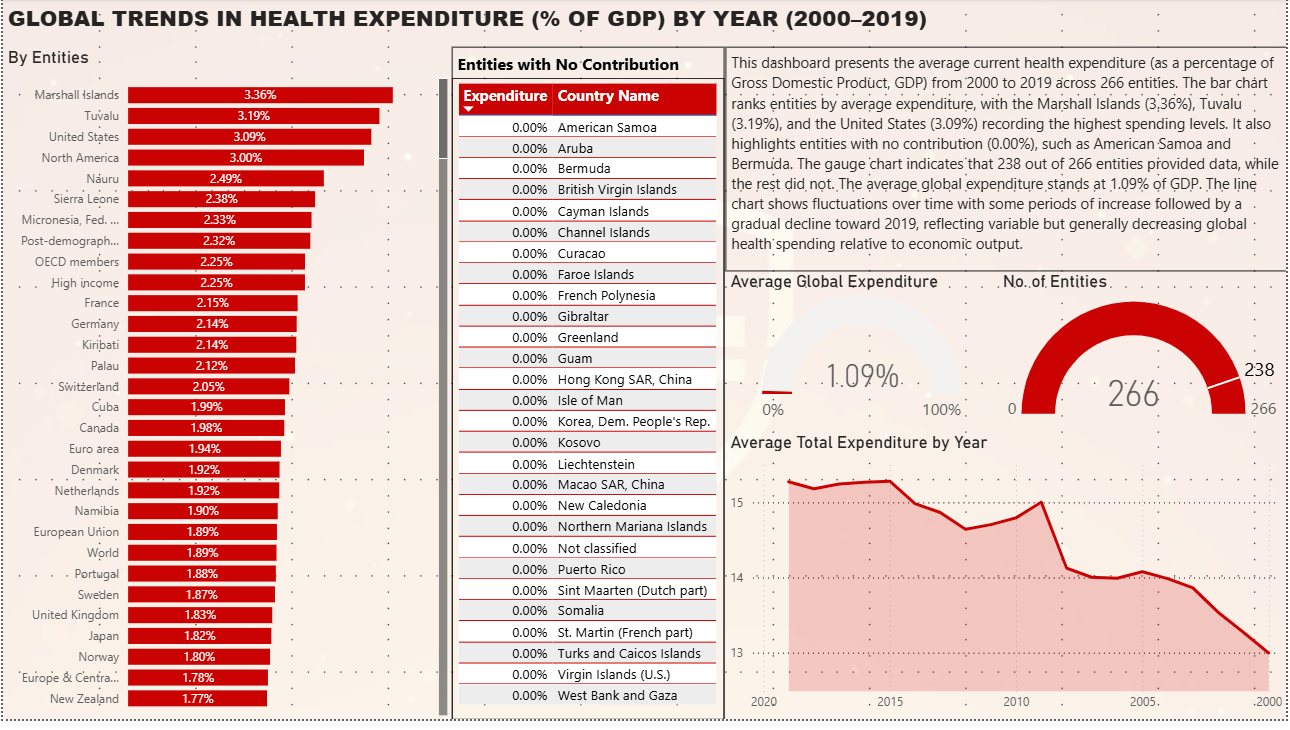

What the dashboard file says about the page in this screenshot:
{"tool":"powerbi","page":{"name":"Expenditure","canvas":[1280,720],"ordinal":6},"visuals":[{"type":"clusteredBarChart","title":"By Entities","fields":{"Category":["Table 1 (Current health expenditure).Country Name"],"Y":["Avg(Table 1 (Current health expenditure).Total for the year)"]},"box":[0,48,448,672],"z":0},{"type":"tableEx","fields":{"Values":["Avg(Table 1 (Current health expenditure).Total for the year)","Table 1 (Current health expenditure).Country Name"]},"box":[448,80,272,640],"z":1000},{"type":"gauge","title":"Average Global Expenditure","fields":{"Y":["Avg(Table 1 (Current health expenditure).Total for the year)"]},"box":[720,272,272,160],"z":2000},{"type":"gauge","title":"No. of Entities","fields":{"Y":["CountNonNull(Table 1 (Current health expenditure).Country Name)"]},"box":[992,272,288,160],"z":3000},{"type":"areaChart","title":"Average Total Expenditure by Year","fields":{"Category":["Yearly Expenditure.Year"],"Y":["Avg(Yearly Expenditure.Total Expenditure)"]},"box":[720,432,560,288],"z":4000},{"type":"textbox","box":[720,48,560,224],"z":5000},{"type":"textbox","box":[0,0,1280,48],"z":6000},{"type":"textbox","box":[448,48,272,672],"z":7000}]}

Visuals, with their boxes in screenshot pixels (x1, y1, x2, y2), scaled from the page's 1280x720 canvas onto the 1290x730 screenshot:
"By Entities" clusteredBarChart: locate(0, 49, 452, 729)
tableEx - Avg(Table 1 (Current health expenditure).Total for the year) x Table 1 (Current health expenditure).Country Name: locate(452, 81, 726, 729)
"Average Global Expenditure" gauge: locate(726, 276, 1000, 438)
"No. of Entities" gauge: locate(1000, 276, 1289, 438)
"Average Total Expenditure by Year" areaChart: locate(726, 438, 1289, 729)
textbox: locate(726, 49, 1289, 276)
textbox: locate(0, 0, 1289, 49)
textbox: locate(452, 49, 726, 729)
